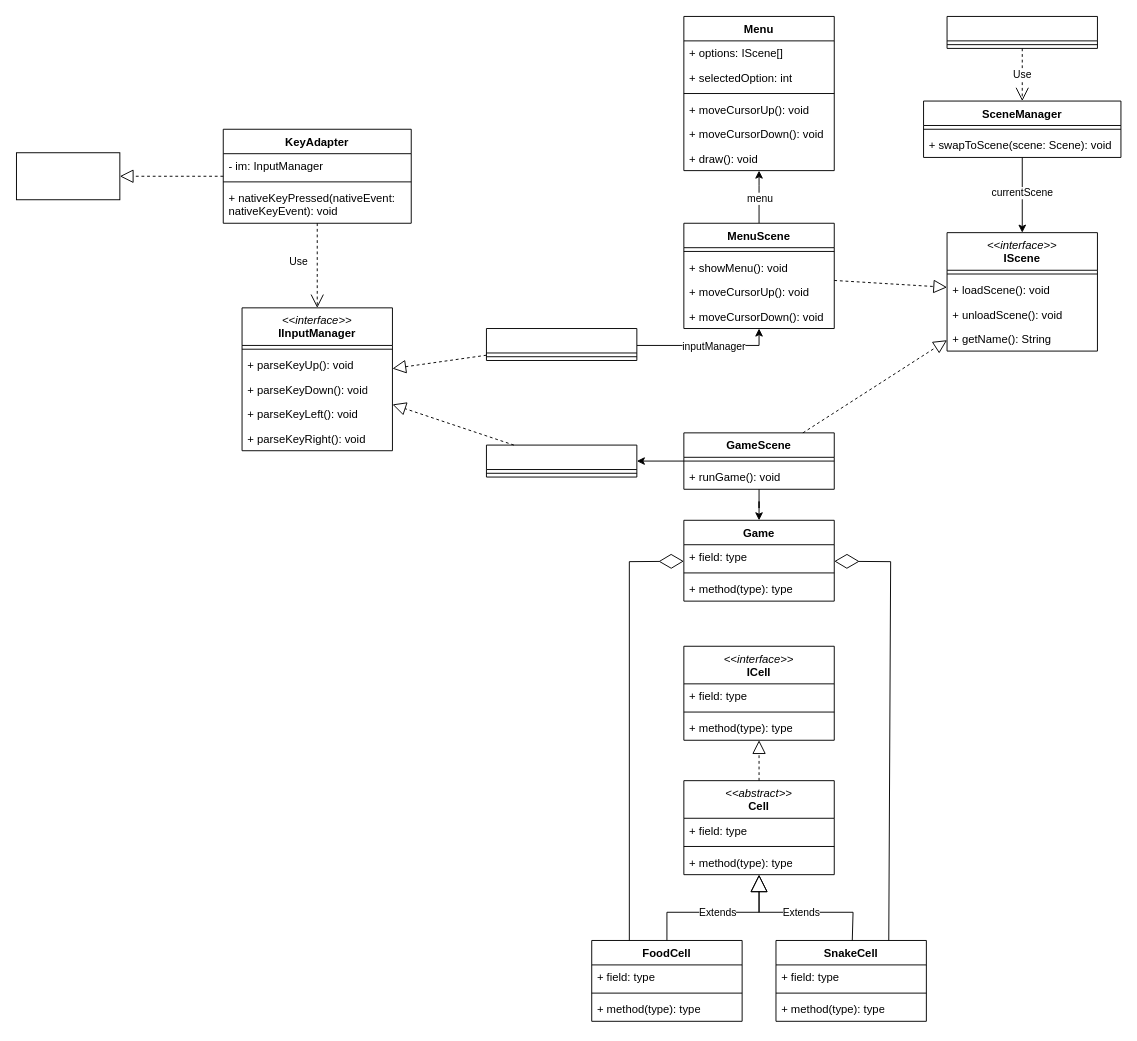
Some shapes in this 1137 by 1041 pixel diagram are drawn without their labels. Each missing label, with the centre of its shape:
"GameInputManager" goes at point (561, 460).
"Main" goes at point (1021, 32).
"MenuInputManager" goes at point (561, 344).
"«interface» NativeKeyAdapter" goes at point (68, 176).
